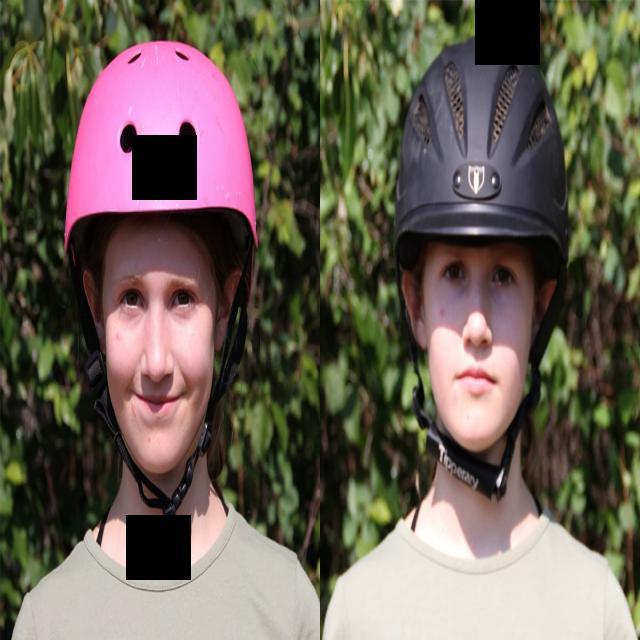Helmet: (63, 36, 260, 475), (394, 31, 569, 456)
